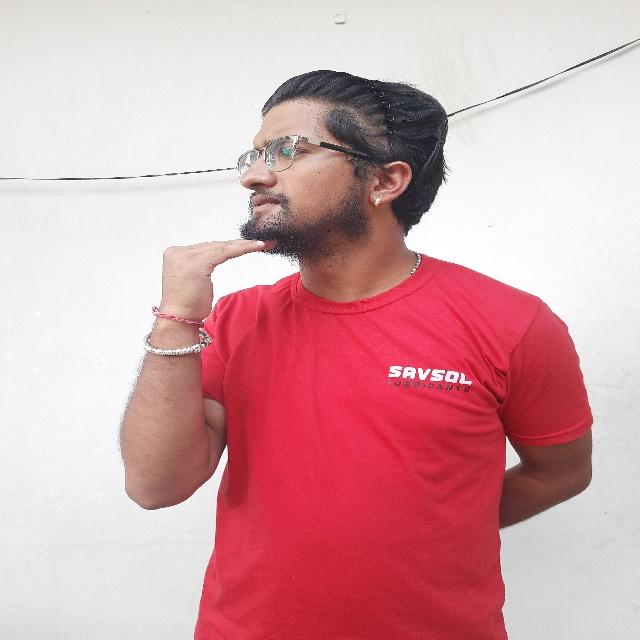Chin Flick: (142, 55, 434, 340)
